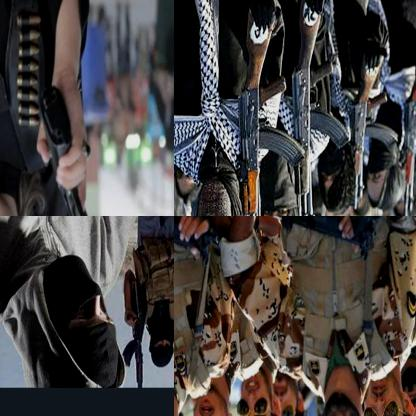pistol: (38, 85, 120, 215)
rifle: (236, 9, 305, 215), (293, 8, 352, 215), (340, 51, 388, 209), (261, 216, 380, 261), (119, 280, 148, 390), (399, 58, 415, 215)
